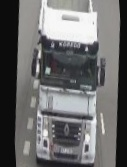truck: (24, 0, 112, 167)
